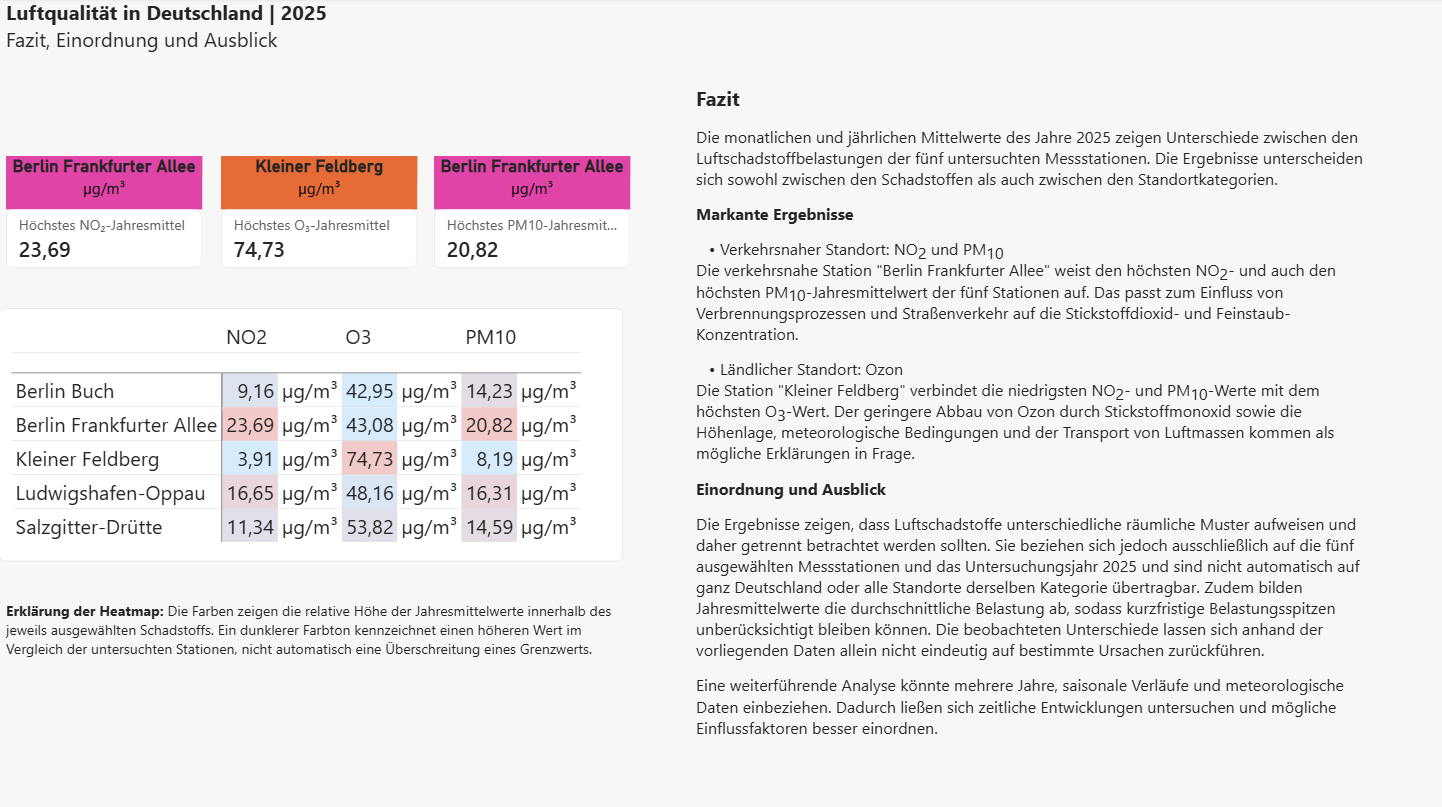

What the dashboard file says about the page in this screenshot:
{"tool":"powerbi","page":{"name":"Seite 3","canvas":[1920,1080],"ordinal":2},"visuals":[{"type":"textbox","box":[9.8,0,1219.2,75],"z":0},{"type":"pivotTable","fields":{"Columns":["annual_mean_values.component name"],"Rows":["annual_mean_values.station name"],"Values":["Sum(annual_mean_values.mean value)","Min(annual_mean_values.unit)"]},"box":[0,412.4,829.6,337.4],"z":1000},{"type":"textbox","box":[9.8,801.9,829.6,107.6],"z":2000},{"type":"textbox","box":[927.4,114.1,898.1,933.9],"z":3000},{"type":"cardVisual","title":"Berlin Frankfurter Allee","fields":{"Data":["annual_mean_values.NO2-max"]},"box":[9.8,210.3,260.8,149.9],"z":4000},{"type":"cardVisual","title":"Kleiner Feldberg","fields":{"Data":["annual_mean_values.O3-max"]},"box":[295,210.3,260.8,149.9],"z":5000},{"type":"cardVisual","title":"Berlin Frankfurter Allee","fields":{"Data":["annual_mean_values.PM10-max"]},"box":[578.6,210.3,260.8,149.9],"z":6000}]}

Visuals, with their boxes in screenshot pixels (x1, y1, x2, y2), scaled from the page's 1920x1080 canvas onto the 1442x807 screenshot:
textbox: (left=7, top=0, right=923, bottom=56)
pivotTable - annual_mean_values.component name x annual_mean_values.station name: (left=0, top=308, right=623, bottom=560)
textbox: (left=7, top=599, right=630, bottom=680)
textbox: (left=697, top=85, right=1371, bottom=783)
"Berlin Frankfurter Allee" cardVisual: (left=7, top=157, right=203, bottom=269)
"Kleiner Feldberg" cardVisual: (left=222, top=157, right=417, bottom=269)
"Berlin Frankfurter Allee" cardVisual: (left=435, top=157, right=630, bottom=269)
